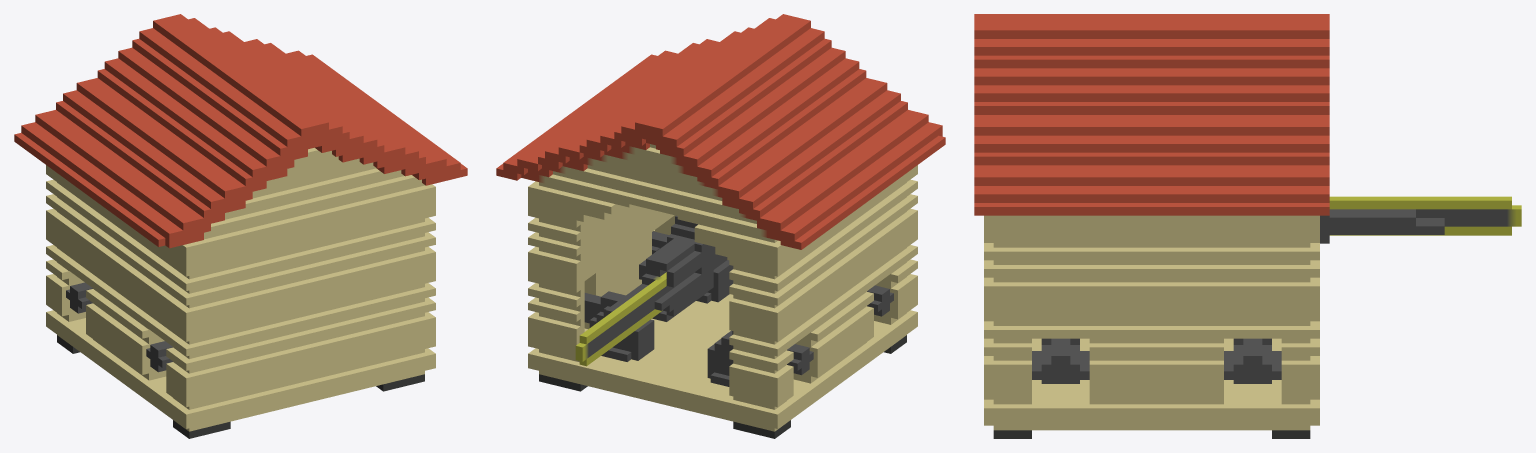
File: Enemy-12-DogMed.fbx
3 renders of one model, left to right at view 1: azimuth 30°, elevation 25°; view 2: azimuth 150°, elevation 25°; view 3: azimuth 270°, elevation 25°, orthographic. The views are drawn at different scales.
Parts seen in each view (by area): view 1: DogMed; view 2: DogMed; view 3: DogMed.
Boxes of the visible parts, box(x1,y1,x2,y2) form: DogMed: box(14, 14, 467, 438); DogMed: box(496, 14, 945, 438); DogMed: box(974, 14, 1521, 438).
Size of the model in its own units: 44 by 40 by 57.
1 material, 1 textured.
